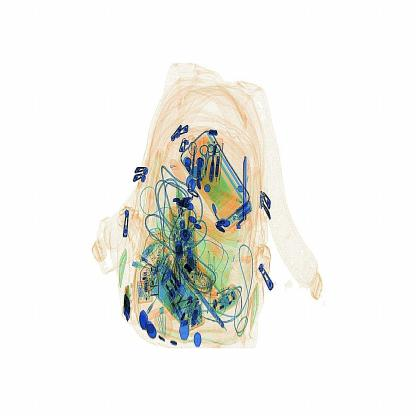pliers: (232, 152, 258, 232)
